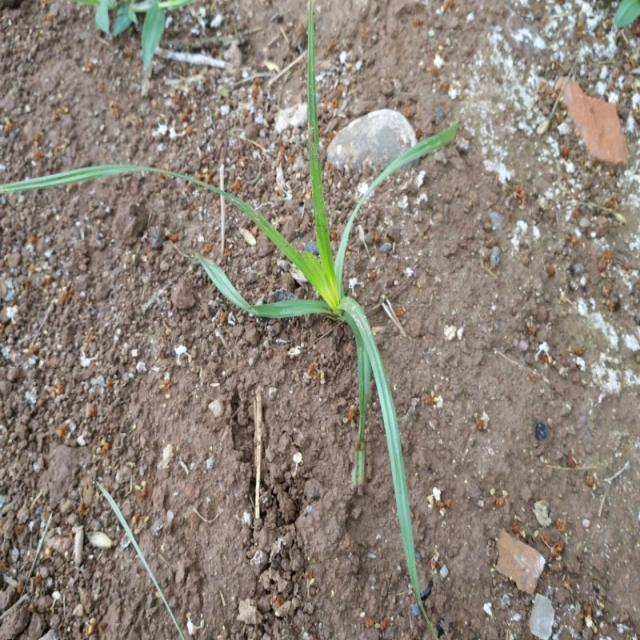sedge: (108, 87, 545, 590)
